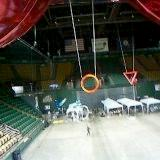Orange_Circle_GShape: (81, 74, 100, 93)
Orange_Triangle_Gshape: (125, 70, 138, 85)
